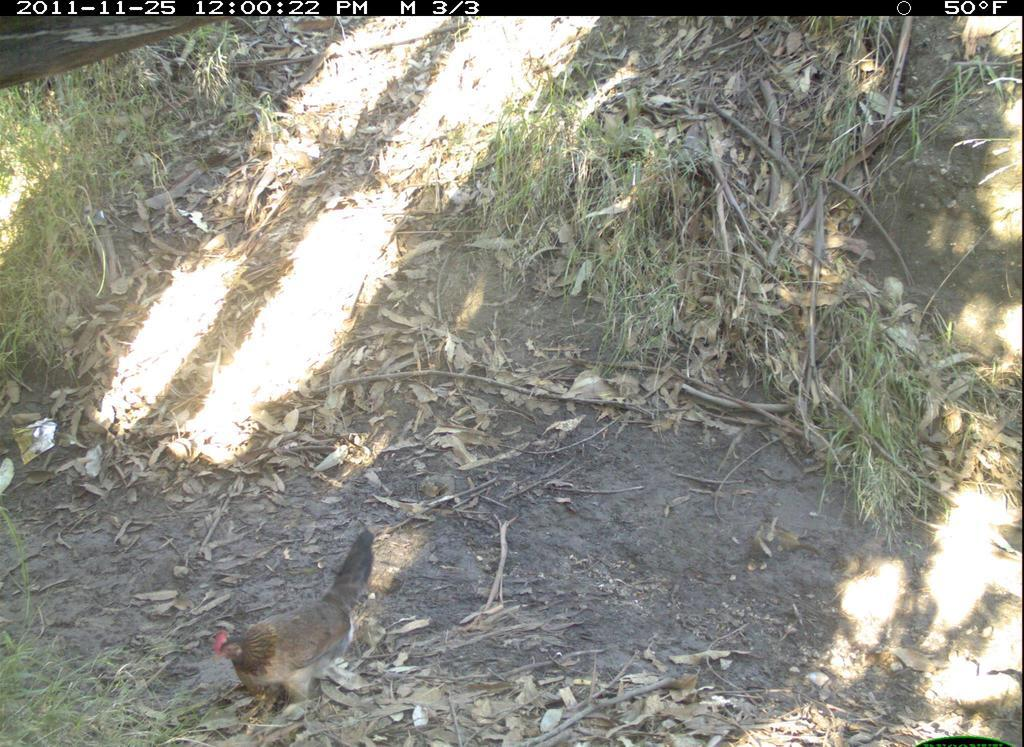bird: (181, 514, 391, 726)
